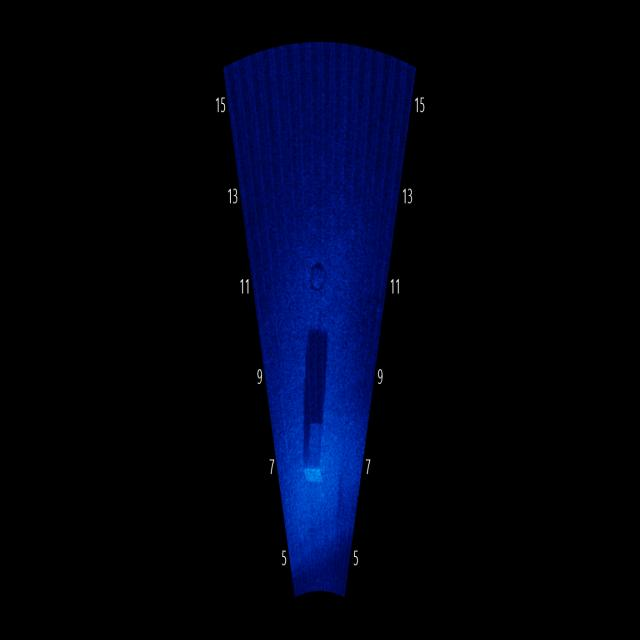square: (290, 406, 334, 498)
